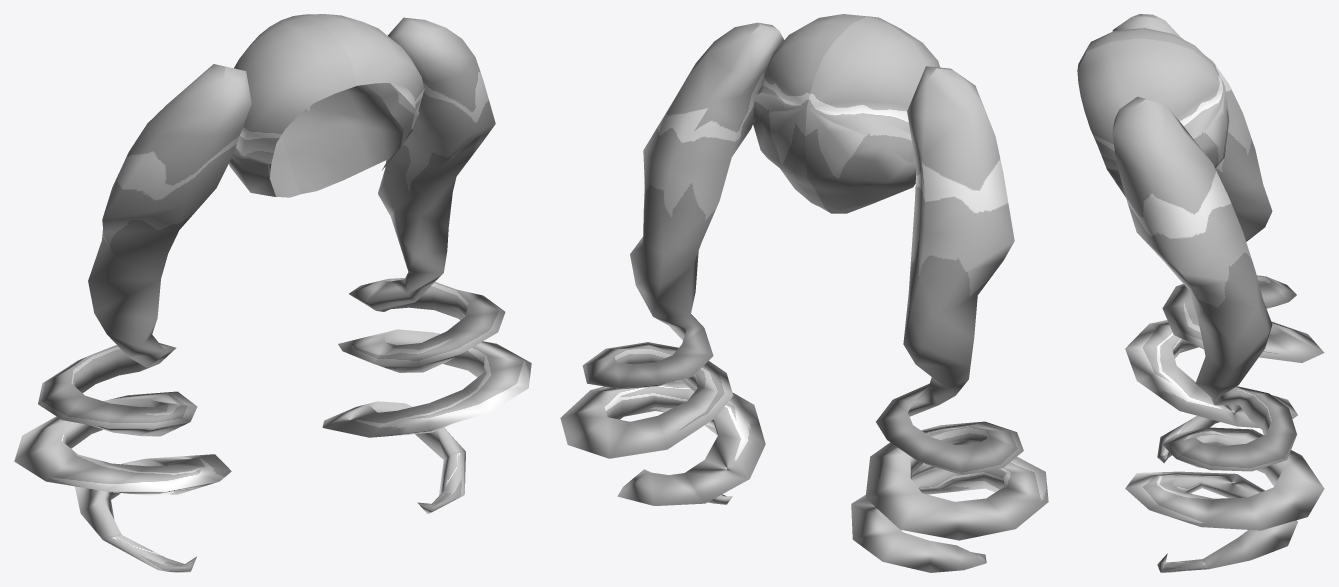
The model's file is HairBack20.fbx.
3 renders of one model, left to right at view 1: azimuth 30°, elevation 25°; view 2: azimuth 150°, elevation 25°; view 3: azimuth 270°, elevation 25°, orthographic. The views are drawn at different scales.
Parts seen in each view (by area): view 1: BackHair20_mesh; view 2: BackHair20_mesh; view 3: BackHair20_mesh.
Part boxes in pixels (bbox=[...]): BackHair20_mesh: bbox=[14, 14, 531, 572]; BackHair20_mesh: bbox=[560, 14, 1048, 572]; BackHair20_mesh: bbox=[1077, 14, 1324, 572].
Bounding box in the file's own units: 65.02 × 67.64 × 31.72.
1 material, 1 textured.
